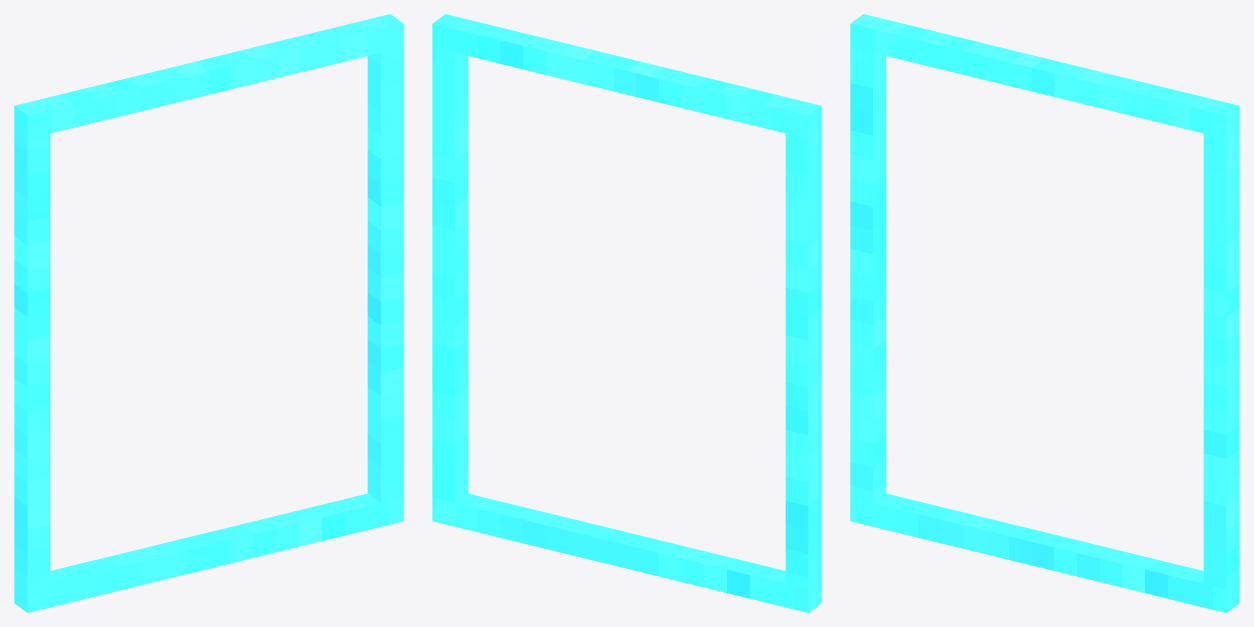
The model's file is fx_sel_w.glb.
3 renders of one model, left to right at view 1: azimuth 30°, elevation 25°; view 2: azimuth 150°, elevation 25°; view 3: azimuth 330°, elevation 25°, orthographic.
Visible parts, largest first — view 1: fx_sel_w; view 2: fx_sel_w; view 3: fx_sel_w.
Boxes of the visible parts, <box> form: fx_sel_w: <box>14,14,403,612</box>; fx_sel_w: <box>432,14,821,612</box>; fx_sel_w: <box>850,14,1239,612</box>.
Size of the model in its own units: 0.83 by 1.05 by 0.05.
Materials: 1 (1 with a texture image).
